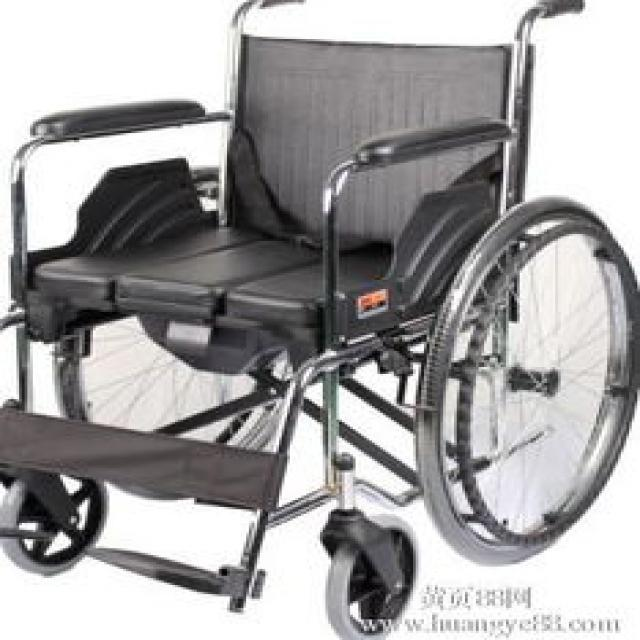wheelchair: (2, 0, 634, 631)
